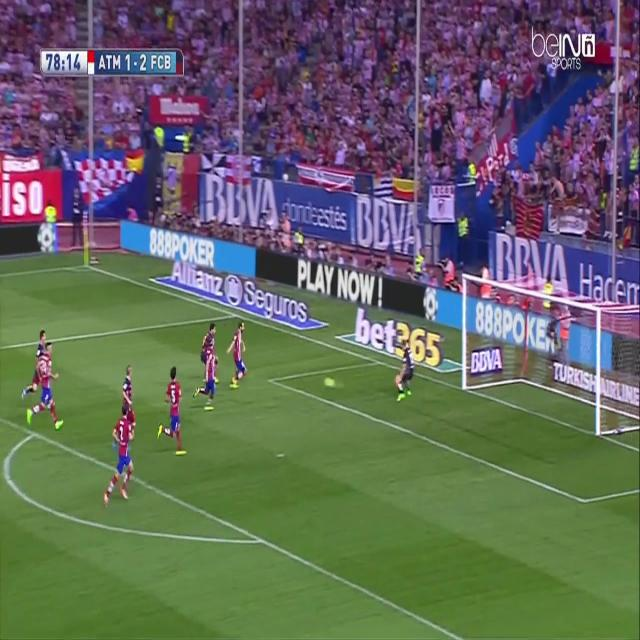Ball: (323, 372, 335, 394)
Goalkeeper: (392, 338, 414, 402)
Player: (101, 403, 136, 507), (27, 342, 65, 431), (155, 363, 188, 459), (19, 326, 46, 401), (224, 318, 250, 393), (193, 338, 218, 414), (198, 319, 216, 365), (123, 362, 135, 412)
